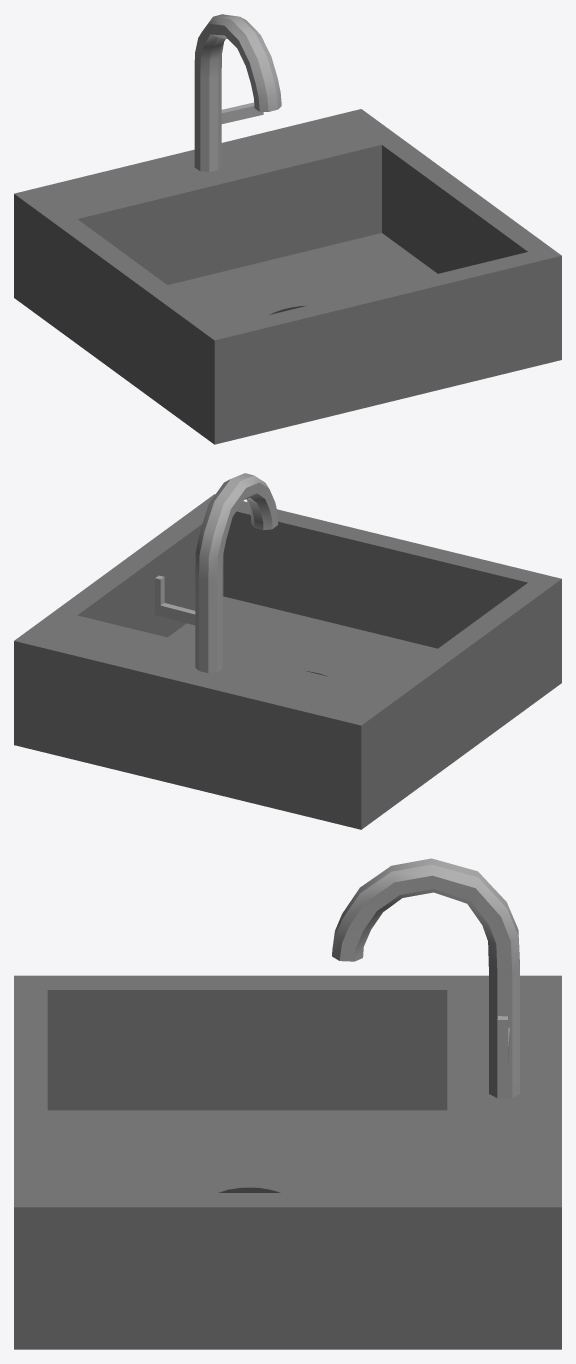
The model's file is Sink_1.fbx.
The picture shows the model from 3 angles, top to bottom: view 1: azimuth 30°, elevation 25°; view 2: azimuth 150°, elevation 25°; view 3: azimuth 270°, elevation 25°; orthographic projection. The views are drawn at different scales.
Parts seen in each view (by area): view 1: pCube1; view 2: pCube1; view 3: pCube1.
Boxes of the visible parts, x1=… form: pCube1: x1=14, y1=14, x2=561, y2=444; pCube1: x1=14, y1=473, x2=561, y2=829; pCube1: x1=14, y1=858, x2=561, y2=1349.
Bounding box in the file's own units: 1 × 0.7498 × 1.
